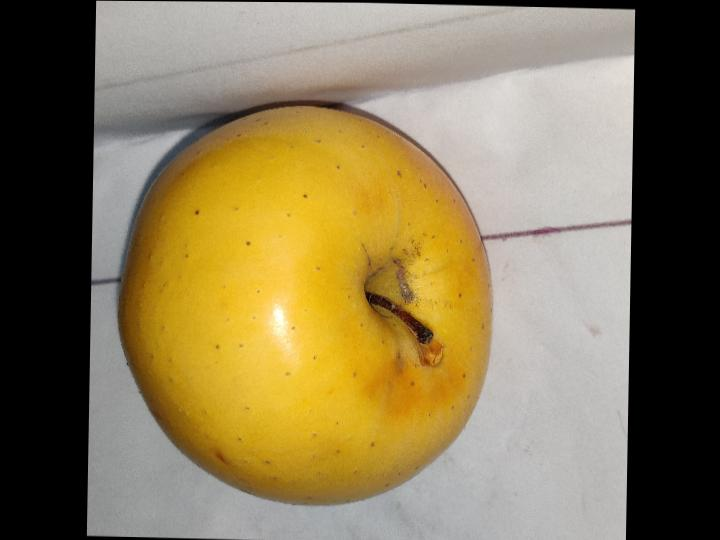apple: (119, 102, 489, 505)
surface_damage: (417, 338, 443, 366)
